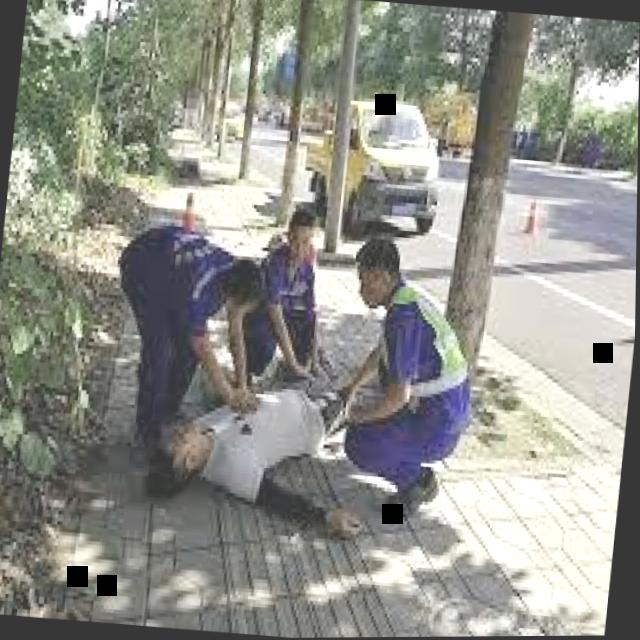Fall-Detected: (141, 356, 383, 548)
